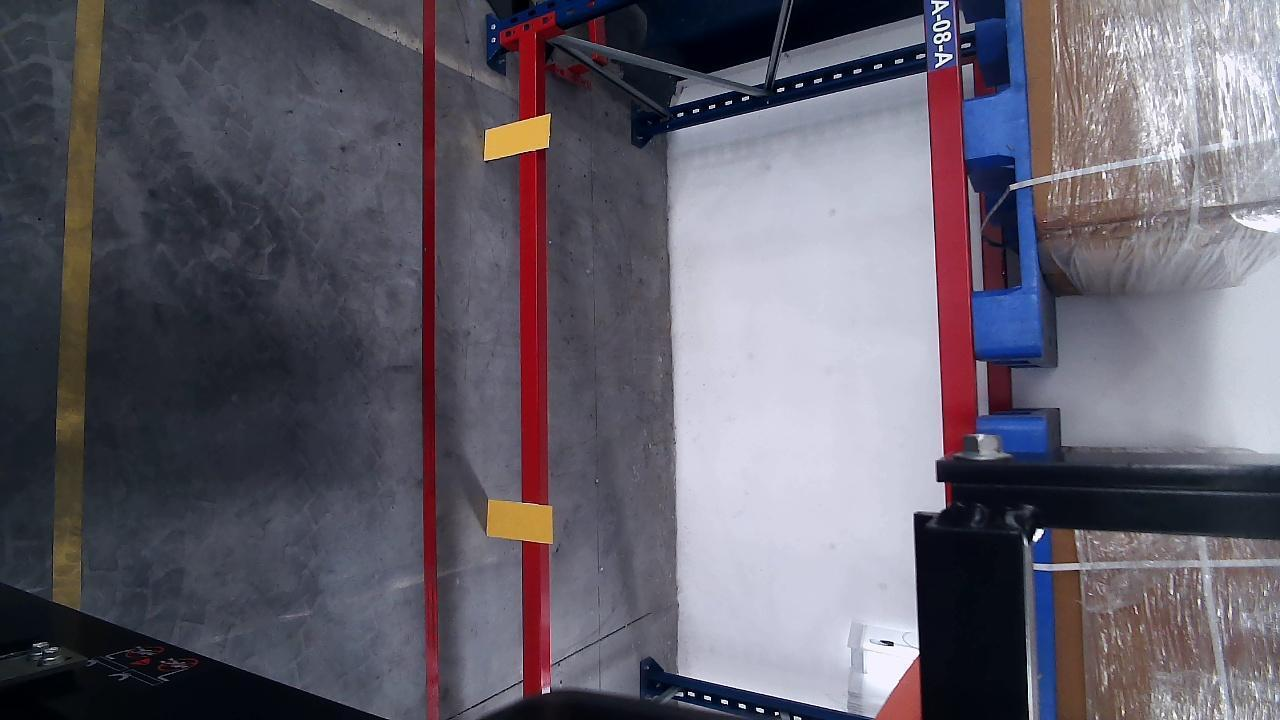red_line: (418, 4, 442, 719)
yellow_line: (49, 1, 107, 609)
